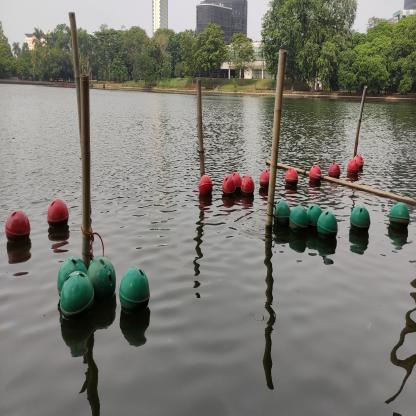green_buoy: (59, 269, 95, 324), (118, 263, 152, 319), (86, 255, 116, 302), (56, 254, 88, 298), (349, 204, 371, 236), (316, 209, 338, 240), (389, 201, 410, 231), (289, 204, 309, 233), (274, 200, 292, 228), (306, 202, 323, 231)
red_buoy: (4, 205, 32, 246), (46, 198, 71, 231), (240, 175, 255, 199), (198, 174, 214, 196), (222, 174, 236, 197), (284, 167, 298, 188), (259, 168, 272, 190), (309, 164, 322, 183), (231, 172, 242, 194), (328, 162, 341, 178), (347, 159, 359, 175), (353, 154, 364, 170)
